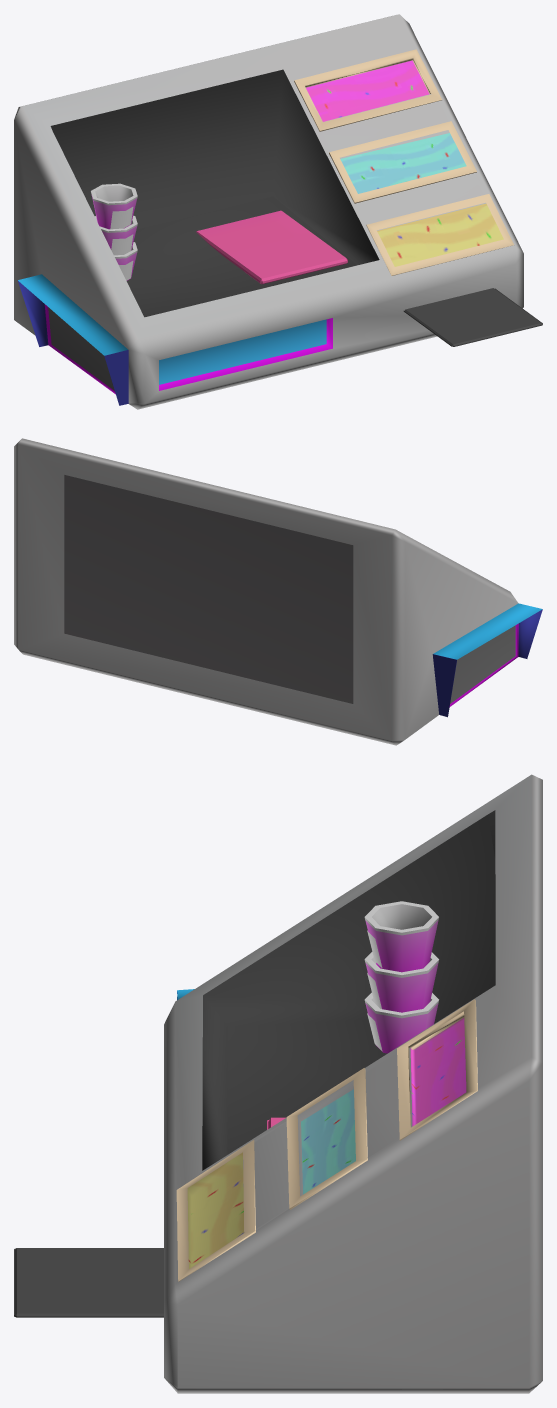
The model's file is Ice Cream Machine.fbx.
3 renders of one model, top to bottom at view 1: azimuth 30°, elevation 25°; view 2: azimuth 150°, elevation 25°; view 3: azimuth 270°, elevation 25°, orthographic. The views are drawn at different scales.
Parts seen in each view (by area): view 1: Cube, Plane.001, Plane, Machine.004; view 2: Cube; view 3: Cube, Plane, Machine.004.
Boxes of the visible parts, box(x1,y1,x2,y2) form: Cube: box(14, 14, 523, 409); Plane.001: box(196, 210, 347, 284); Plane: box(403, 288, 542, 346); Machine.004: box(91, 183, 137, 280); Cube: box(14, 438, 542, 745); Cube: box(164, 774, 542, 1393); Plane: box(14, 1248, 163, 1317); Machine.004: box(364, 901, 438, 1053).
Bounding box in the file's own units: 4.93 × 2.46 × 3.51.
2 materials, 1 textured.
